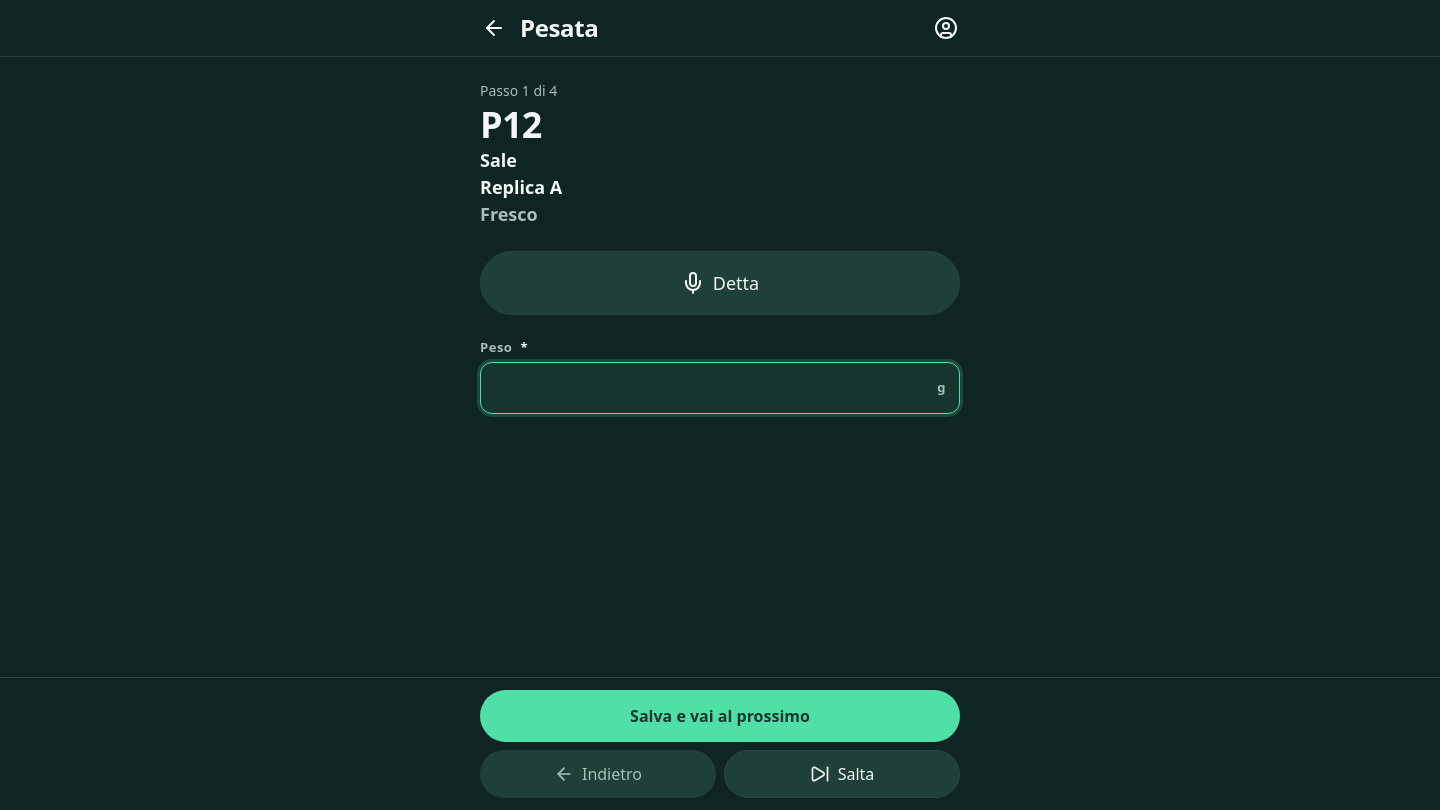
Scenario: Pesata › l'errore 23505 mostra il messaggio del peso già inserito, senza Riprova
Type "1" into the field labelled "Peso *" at (720, 388), box [480,362,960,414]
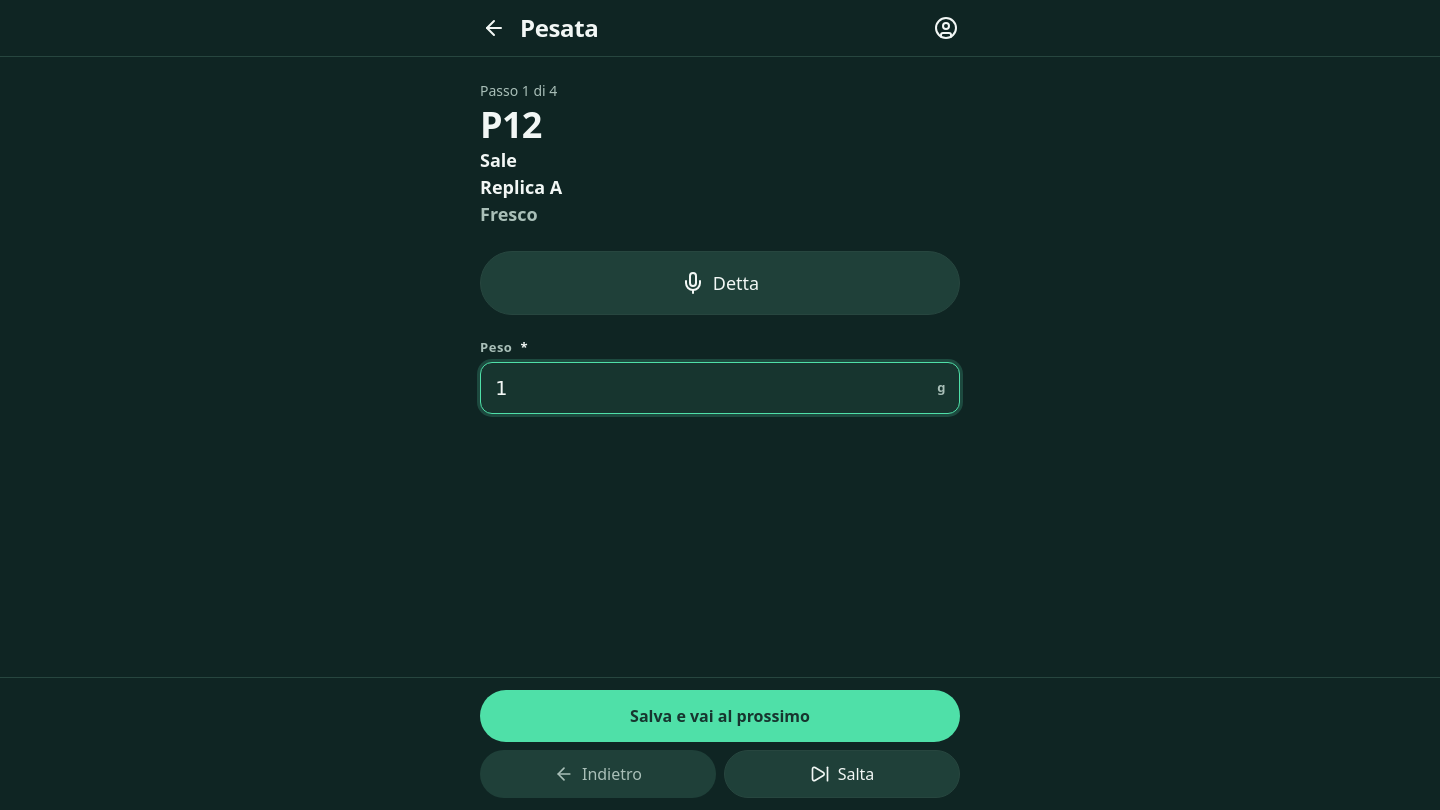
Click the button "Salva e vai al prossimo" at (720, 716), box [480,690,960,742]
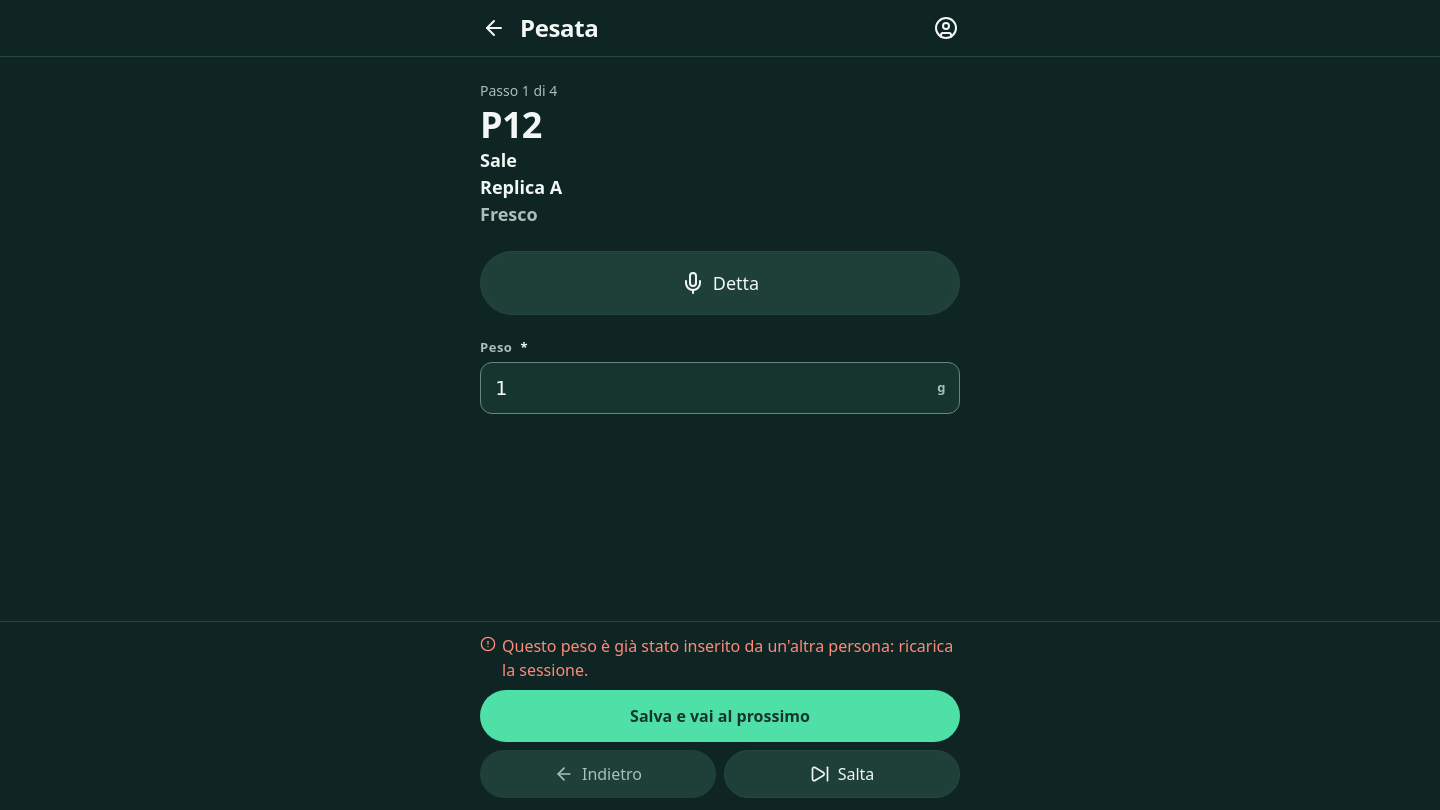
Expected: the text "Replica A" is shown, [480,175,562,199]
Expected: the text "Questo peso è già stato inserito da un'altra persona: ricarica la sessione." is shown, [480,634,960,682]
